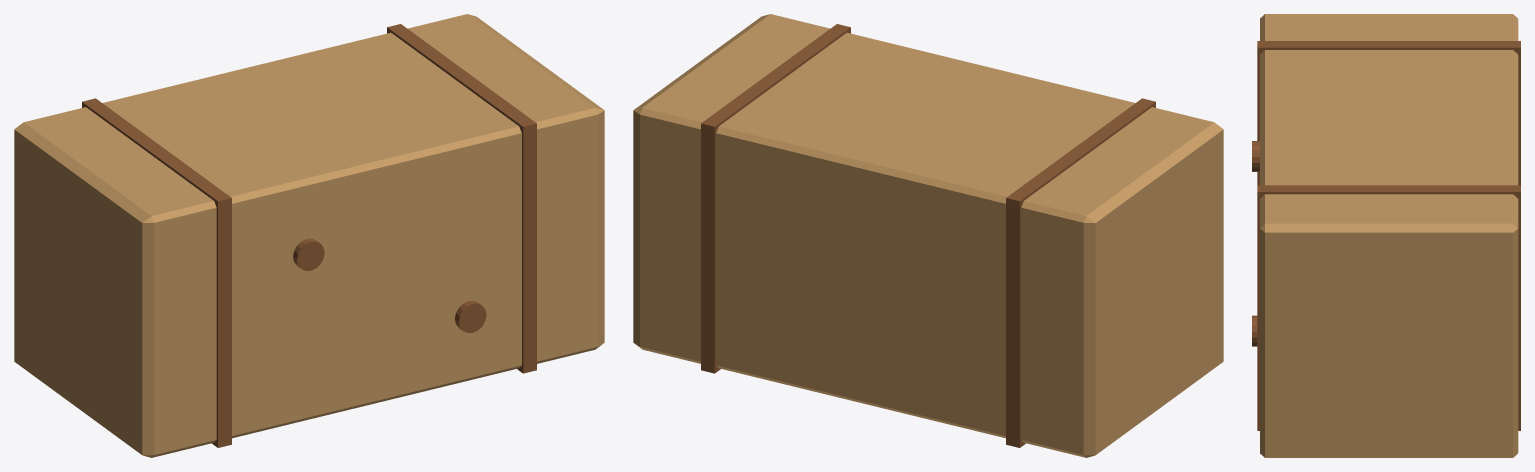
The model's file is wood-block-lod0.glb.
3 views of the same model, side by side, from view 1: azimuth 30°, elevation 25°; view 2: azimuth 150°, elevation 25°; view 3: azimuth 270°, elevation 25° (orthographic). The views are drawn at different scales.
Parts seen in each view (by area): view 1: wood-block; view 2: wood-block; view 3: wood-block.
Part boxes in pixels (x1=…): wood-block: x1=14, y1=14, x2=604, y2=457; wood-block: x1=633, y1=14, x2=1223, y2=457; wood-block: x1=1252, y1=14, x2=1520, y2=457.
Size of the model in its own units: 1 by 0.51 by 0.52.
